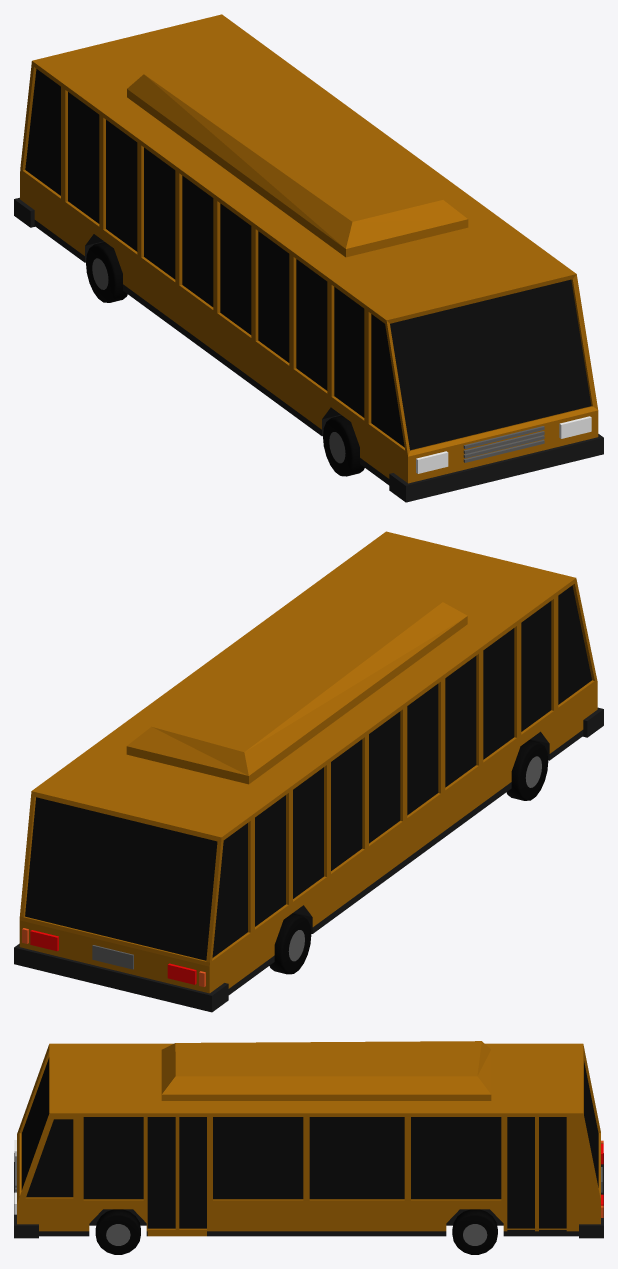
The model's file is YELLOW BUS.FBX.
3 renders of one model, top to bottom at view 1: azimuth 30°, elevation 25°; view 2: azimuth 150°, elevation 25°; view 3: azimuth 270°, elevation 25°, orthographic. The views are drawn at different scales.
Visible parts, largest first — view 1: BUS_Yellow, BUS_WHEEL_FL, BUS_WHEEL_BL; view 2: BUS_Yellow, BUS_WHEEL_BL, BUS_WHEEL_FL; view 3: BUS_Yellow, BUS_WHEEL_FR, BUS_WHEEL_BR.
Boxes of the visible parts, <box> form: BUS_Yellow: <box>14,14,603,502</box>; BUS_WHEEL_FL: <box>323,415,364,476</box>; BUS_WHEEL_BL: <box>86,242,127,302</box>; BUS_Yellow: <box>14,531,603,1012</box>; BUS_WHEEL_BL: <box>269,913,311,974</box>; BUS_WHEEL_FL: <box>506,740,548,800</box>; BUS_Yellow: <box>14,1041,603,1238</box>; BUS_WHEEL_FR: <box>95,1209,140,1254</box>; BUS_WHEEL_BR: <box>452,1209,497,1254</box>.
Bounding box in the file's own units: 3.05 × 3.12 × 10.46.
